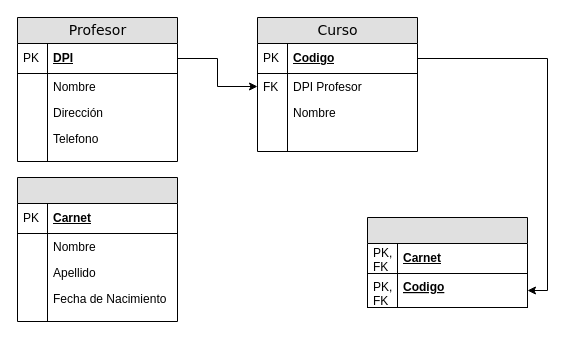
Some shapes in this 573 by 339 pixel diagram are drawn without their labels. Each missing label, with the box of its shape:
Alumno: (16, 176, 178, 322)
Asignacion: (366, 216, 528, 308)
